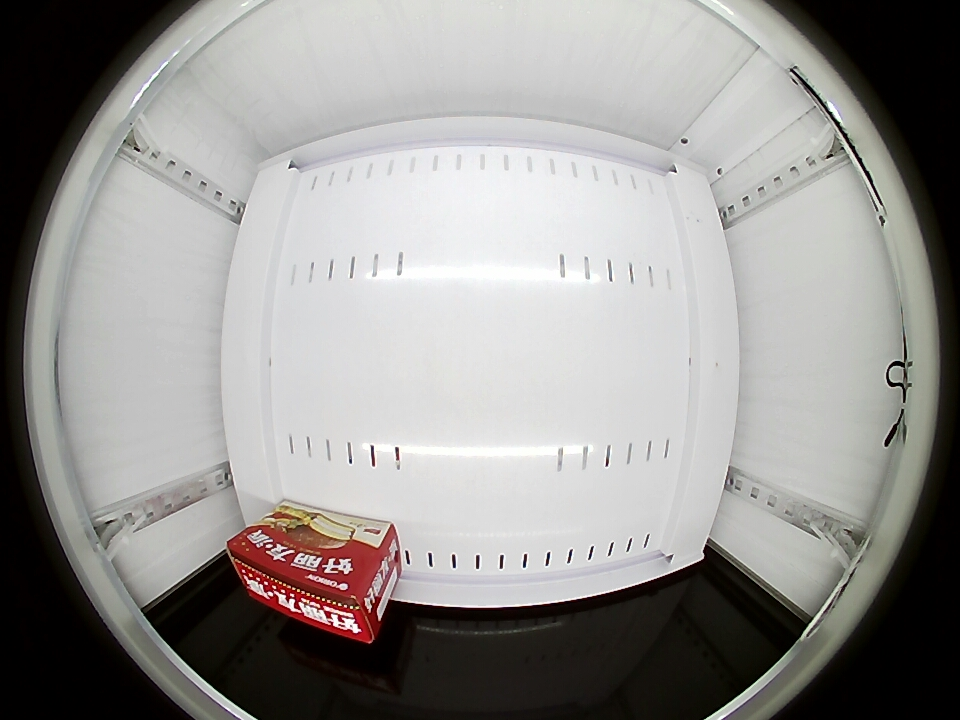haoliyou: (228, 520, 389, 641)
